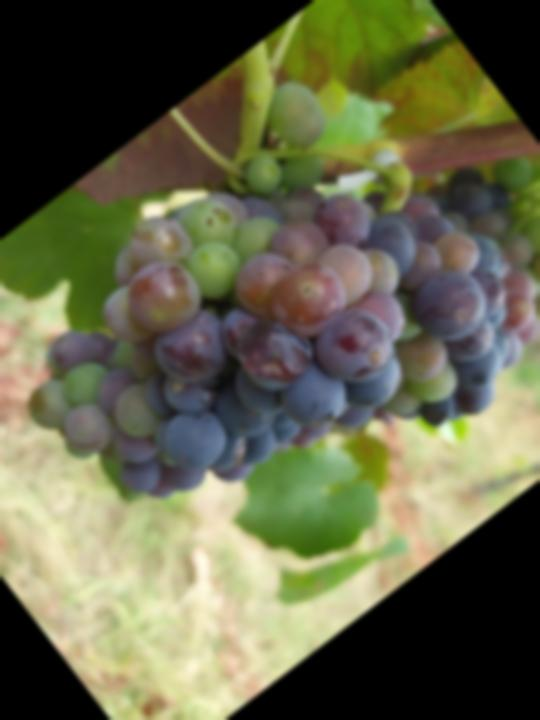grape: (0, 63, 527, 587)
